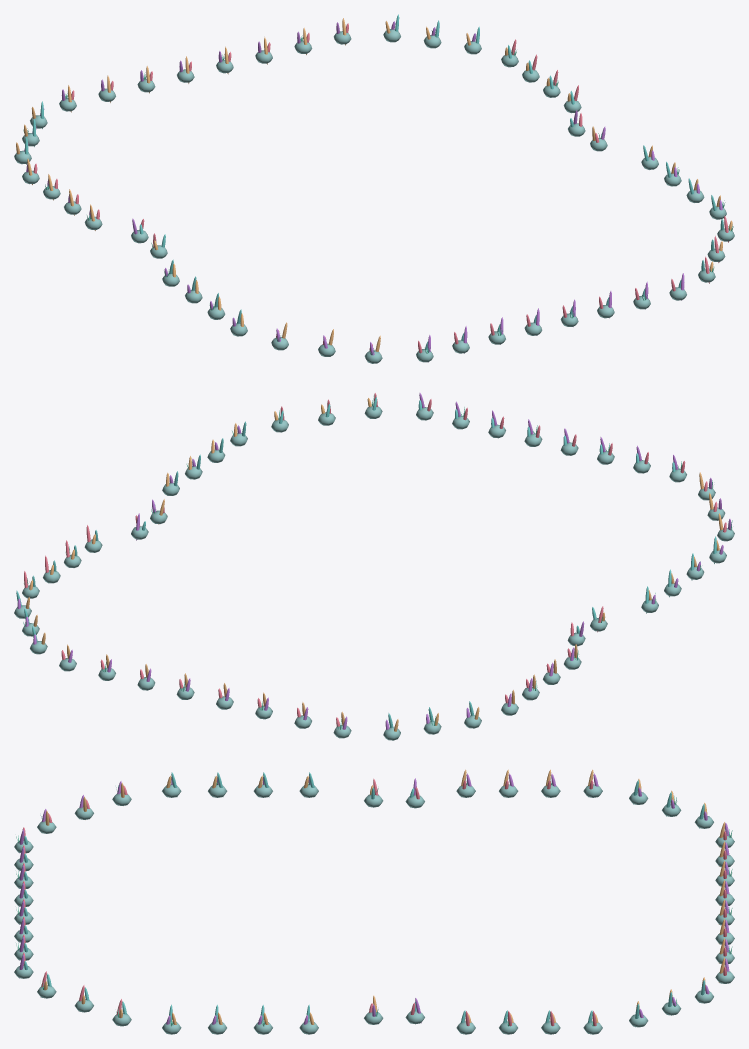
Rendered from reef-25-C-c8lG0S.glb.
The picture shows the model from 3 angles, top to bottom: view 1: azimuth 30°, elevation 25°; view 2: azimuth 150°, elevation 25°; view 3: azimuth 270°, elevation 25°; orthographic projection.
Parts seen in each view (by area): view 1: ReefRock, Coral2, Coral1, Coral3, Coral0; view 2: ReefRock, Coral1, Coral2, Coral3, Coral0; view 3: ReefRock, Coral1, Coral2, Coral3, Coral0.
Boxes of the visible parts, x1,y1,x2,y2 form: ReefRock: (14,29,734,363); Coral2: (16,18,732,351); Coral1: (24,21,722,362); Coral3: (25,14,723,349); Coral0: (33,23,728,353); ReefRock: (14,406,734,740); Coral1: (17,393,731,729); Coral2: (25,398,723,731); Coral3: (16,397,716,727); Coral0: (24,393,726,726); ReefRock: (14,784,734,1034); Coral1: (19,773,729,1024); Coral2: (44,769,725,1024); Coral3: (24,772,705,1027); Coral0: (22,778,726,1026).
Size of the model in its own units: 41 by 2.06 by 51.1.
